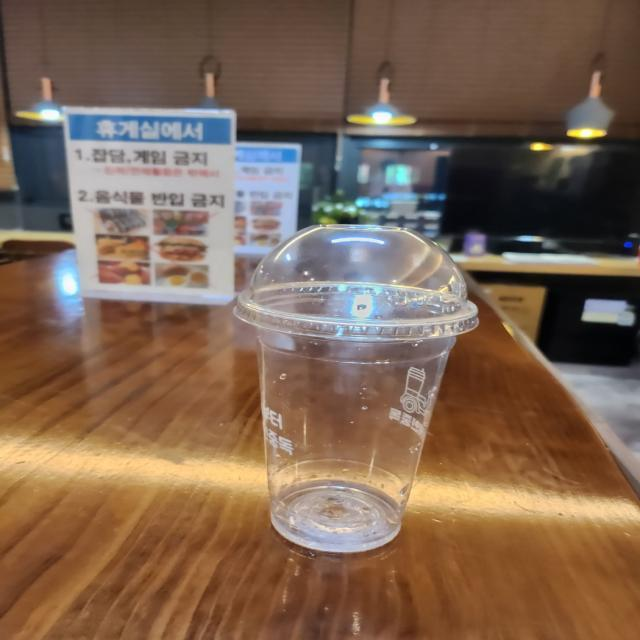plastic_cup_lid: (227, 202, 486, 358)
